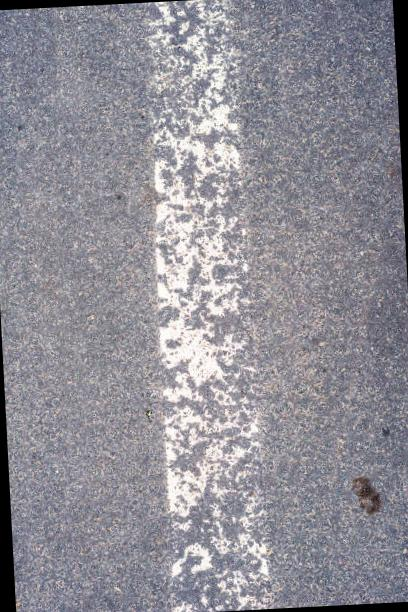faded_road_lines: (138, 0, 290, 612)
